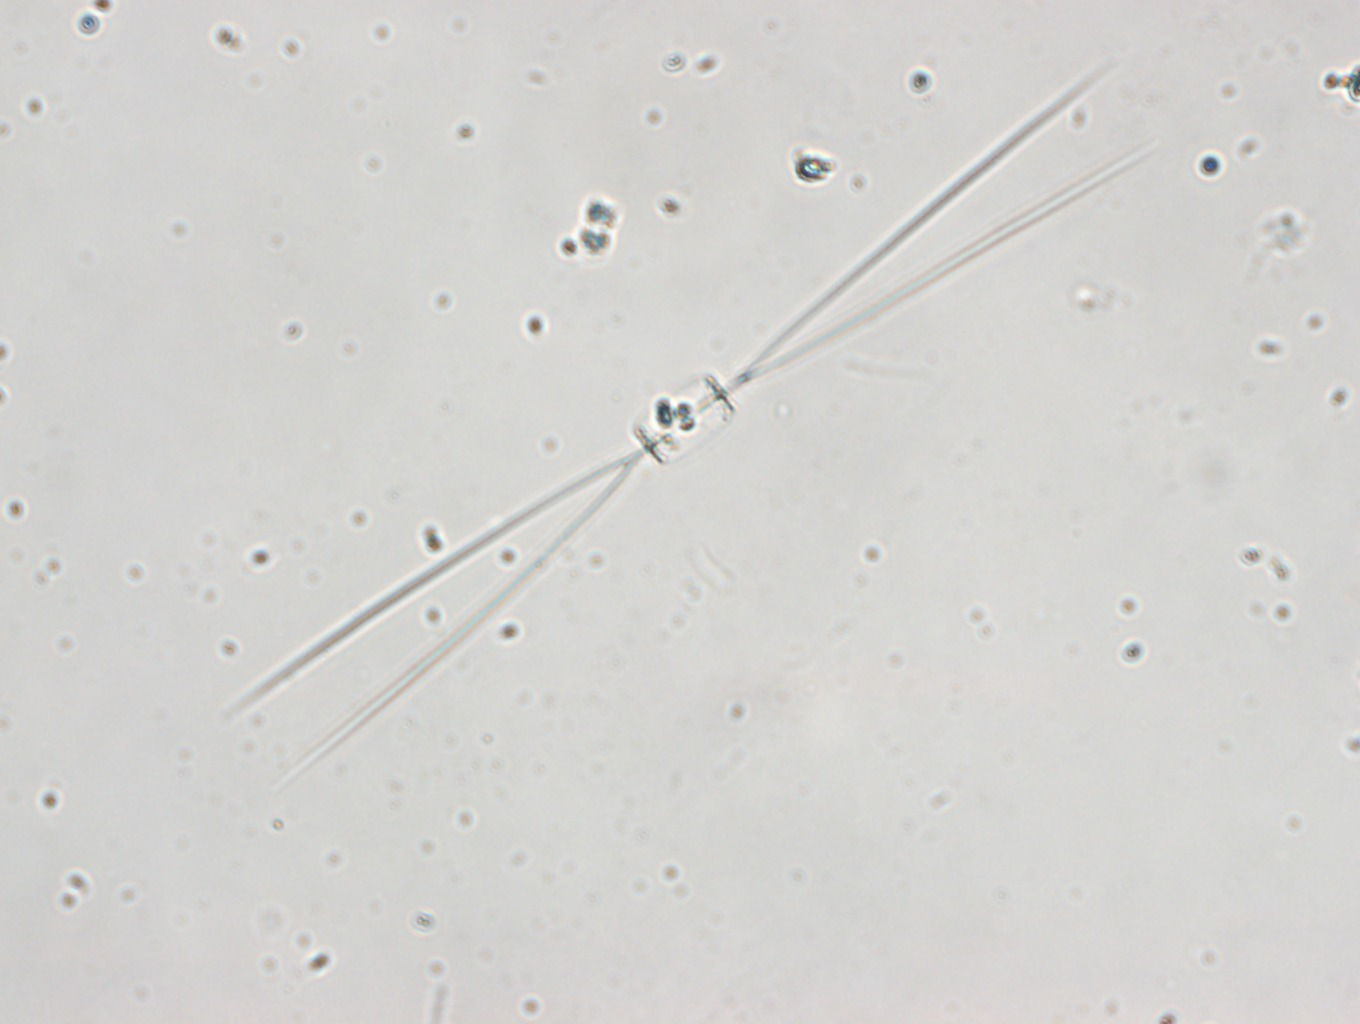chaetoceros: (225, 48, 1165, 785)
